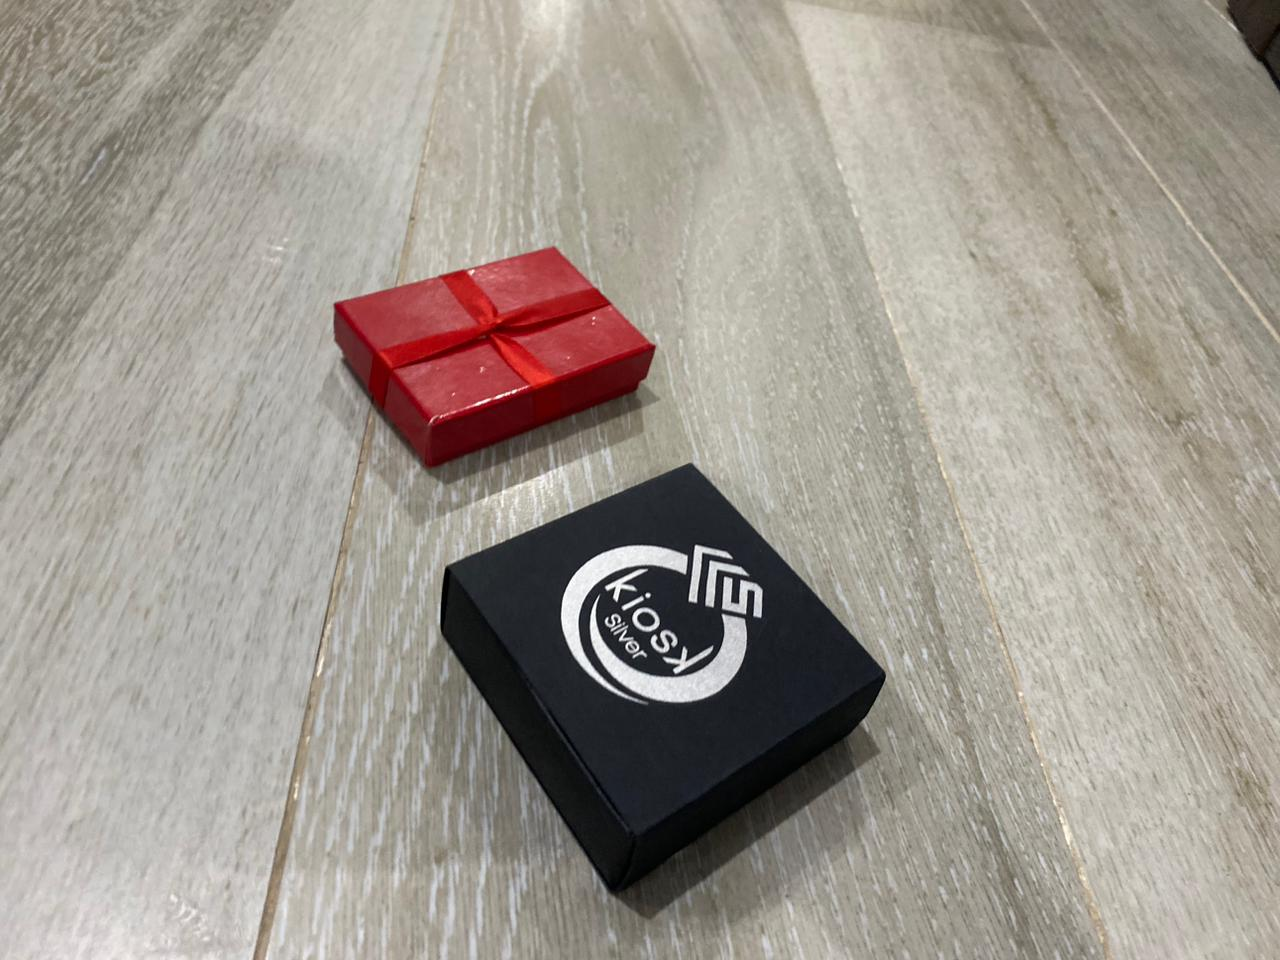Black Box: (329, 242, 663, 471)
Red Box: (429, 462, 891, 901)
